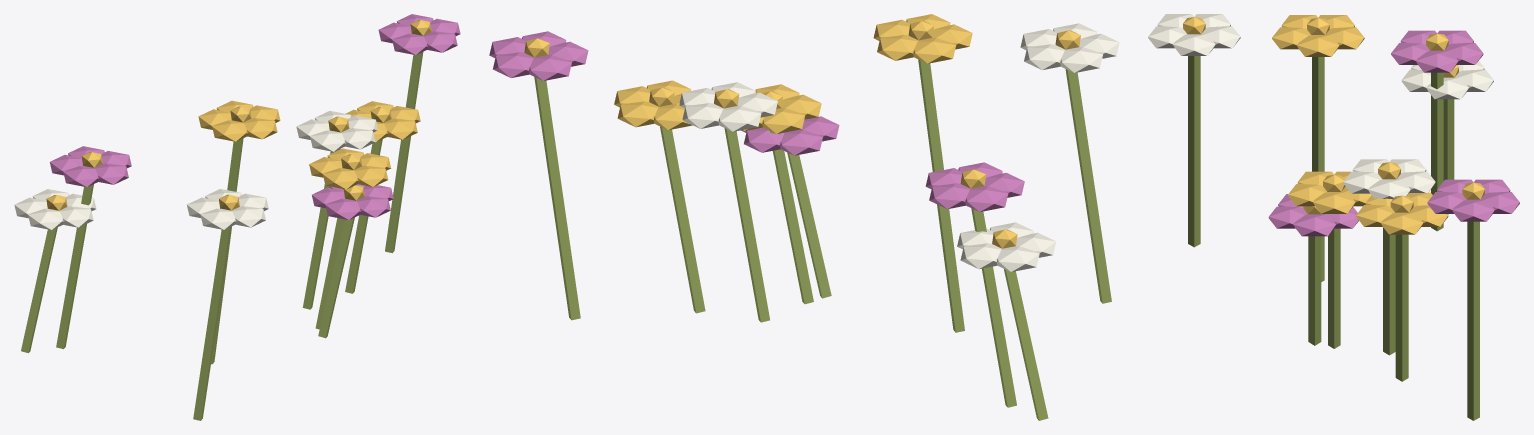
File: foliage_flowers.glb
The picture shows the model from 3 angles, left to right: view 1: azimuth 30°, elevation 25°; view 2: azimuth 150°, elevation 25°; view 3: azimuth 270°, elevation 25°; orthographic projection. The views are drawn at different scales.
Visible parts, largest first — view 1: foliage_flowers; view 2: foliage_flowers; view 3: foliage_flowers.
Boxes of the visible parts, bbox=[...] form: foliage_flowers: bbox=[14, 14, 460, 420]; foliage_flowers: bbox=[489, 14, 1119, 420]; foliage_flowers: bbox=[1148, 14, 1519, 420].
Bounding box in the file's own units: 1 × 0.5326 × 0.6383.
